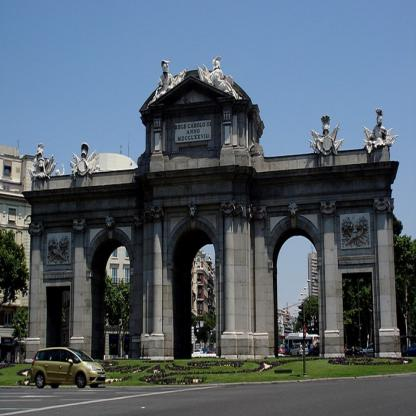Car: (30, 348, 108, 392), (1, 334, 28, 363), (360, 342, 380, 357), (292, 344, 310, 359), (193, 346, 209, 359), (363, 344, 374, 359), (405, 343, 416, 358), (193, 349, 204, 357), (347, 349, 358, 357), (279, 348, 287, 356), (212, 348, 217, 356), (205, 349, 211, 355)
